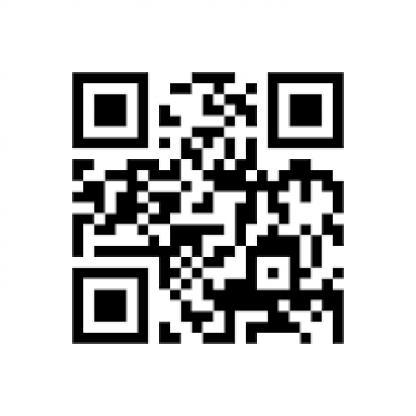qr_code: (72, 71, 344, 344)
